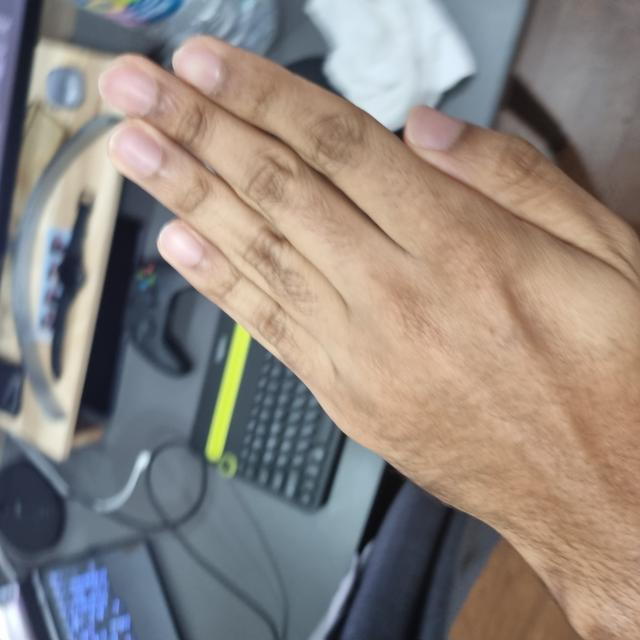Paper: (31, 104, 600, 639)
